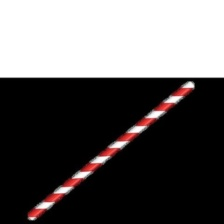drinking_straw: (24, 77, 200, 224)
